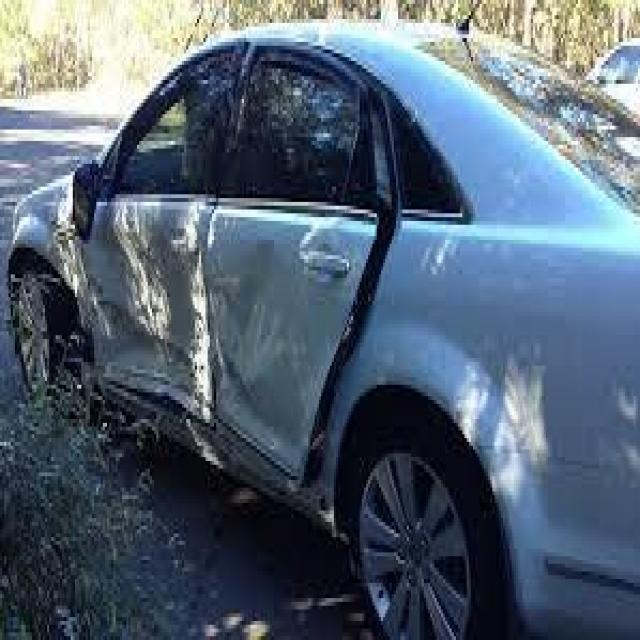damaged: (56, 179, 292, 476)
